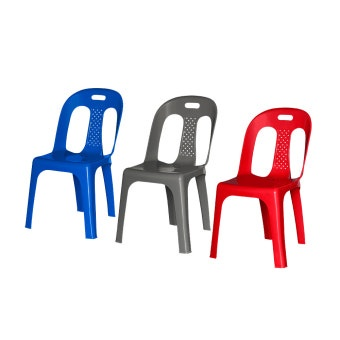plastic: (115, 94, 218, 252)
